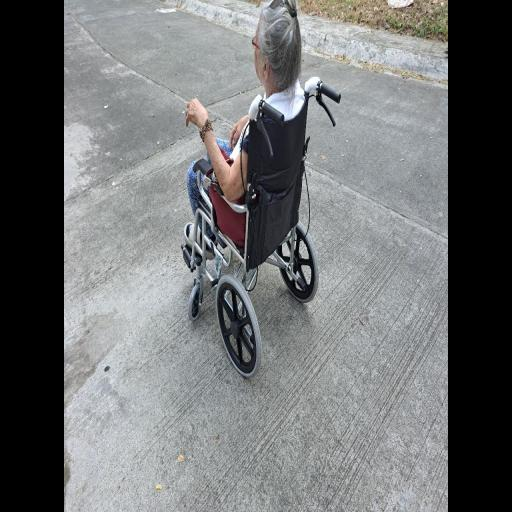cadeira_de_rodas: (179, 0, 345, 386)
